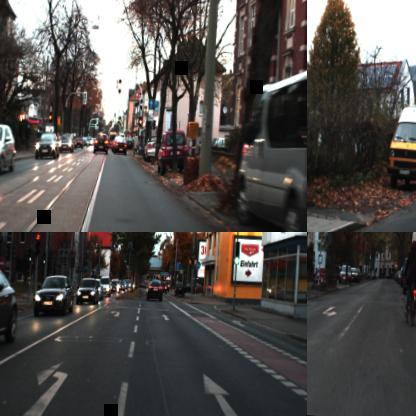NO ENTRY: (0, 256, 5, 271)
go straight: (148, 98, 155, 110)
keep right: (122, 280, 128, 288)
